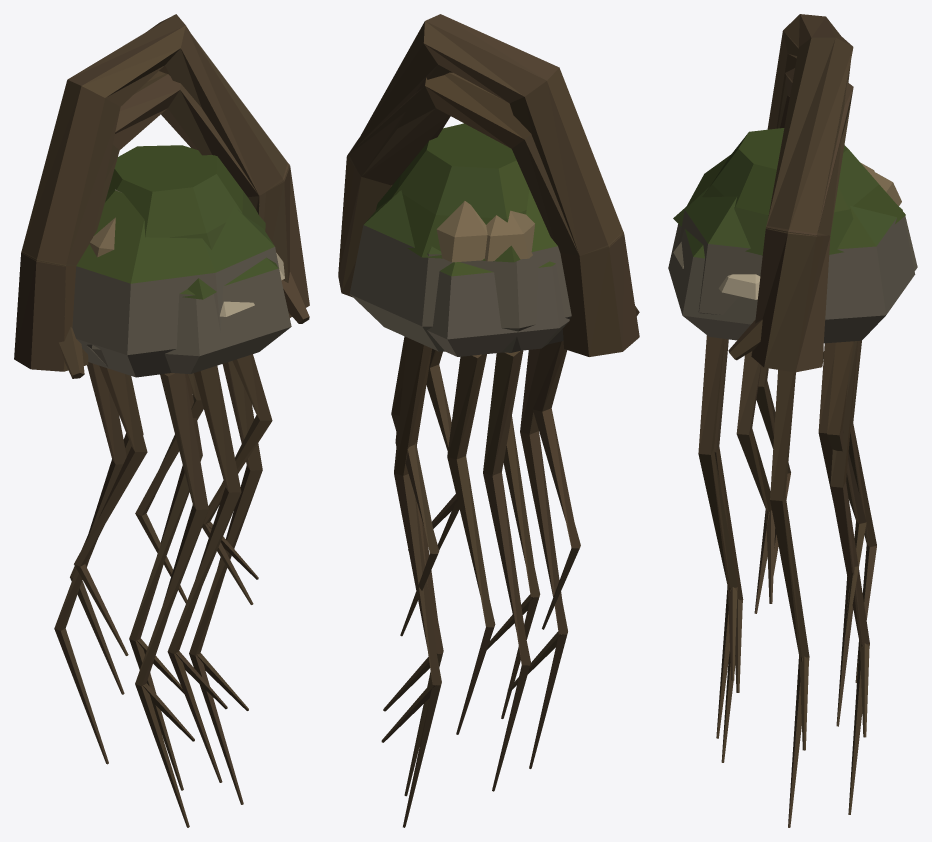
File: roots.glb
The picture shows the model from 3 angles, left to right: view 1: azimuth 30°, elevation 25°; view 2: azimuth 150°, elevation 25°; view 3: azimuth 270°, elevation 25°; orthographic projection. The views are drawn at different scales.
Parts seen in each view (by area): view 1: roots_root_arch_b, roots_moss_rock_a, roots_hanging_roots_b, roots_hanging_roots_a, roots_root_arch_a, roots_moss_rock_b, roots_mushroom_cluster_b; view 2: roots_root_arch_b, roots_moss_rock_a, roots_hanging_roots_b, roots_hanging_roots_a, roots_root_arch_a, roots_moss_rock_b, roots_mushroom_cluster_b, roots_mushroom_cluster_a; view 3: roots_moss_rock_a, roots_root_arch_b, roots_hanging_roots_a, roots_hanging_roots_b, roots_root_arch_a, roots_moss_rock_b, roots_mushroom_cluster_b.
Part boxes in pixels (<box>): roots_root_arch_b: <box>14,14,309,371</box>; roots_moss_rock_a: <box>72,145,280,377</box>; roots_hanging_roots_b: <box>70,354,272,827</box>; roots_hanging_roots_a: <box>54,361,262,804</box>; roots_root_arch_a: <box>21,71,309,378</box>; roots_moss_rock_b: <box>87,257,291,373</box>; roots_mushroom_cluster_b: <box>89,217,284,280</box>; roots_root_arch_b: <box>338,14,639,356</box>; roots_moss_rock_a: <box>349,123,571,352</box>; roots_hanging_roots_b: <box>381,337,580,827</box>; roots_hanging_roots_a: <box>383,336,540,796</box>; roots_root_arch_a: <box>338,72,639,356</box>; roots_moss_rock_b: <box>427,261,569,356</box>; roots_mushroom_cluster_b: <box>436,201,487,262</box>; roots_mushroom_cluster_a: <box>485,210,534,261</box>; roots_moss_rock_a: <box>675,128,915,343</box>; roots_root_arch_b: <box>751,14,853,372</box>; roots_hanging_roots_a: <box>698,335,866,827</box>; roots_hanging_roots_b: <box>714,339,876,814</box>; roots_root_arch_a: <box>728,68,853,372</box>; roots_moss_rock_b: <box>668,207,917,340</box>; roots_mushroom_cluster_b: <box>718,165,901,299</box>.
Bounding box in the file's own units: 0.8481 × 2.25 × 0.6594.
